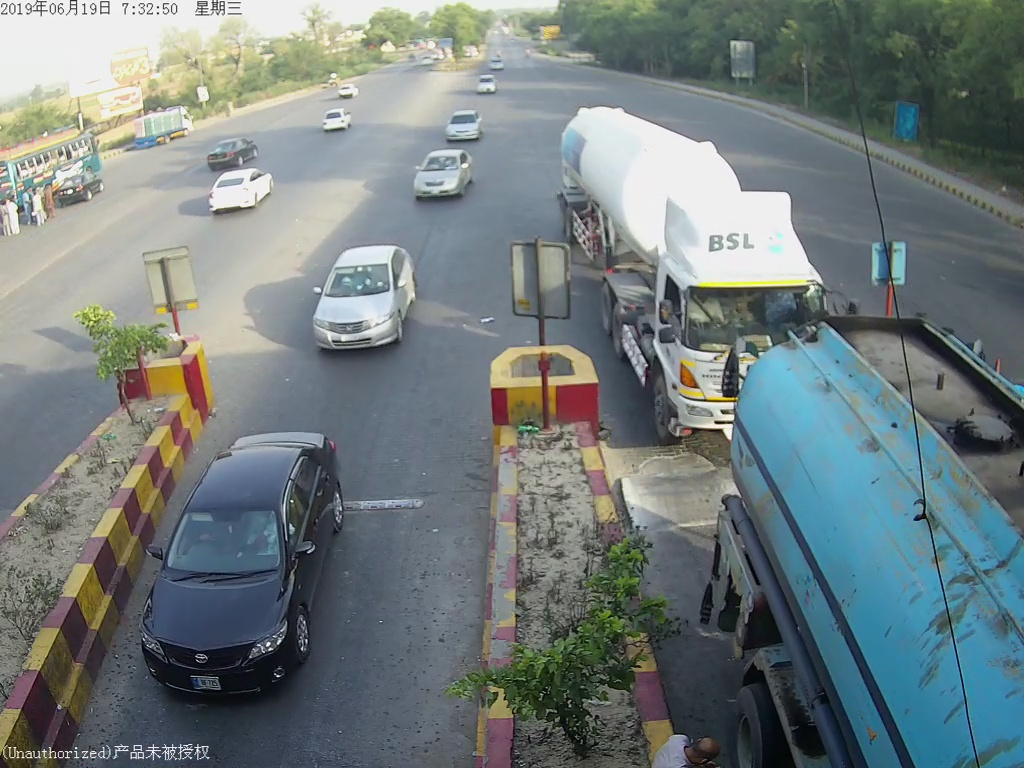Cat-1: (158, 451, 339, 696), (310, 247, 421, 356), (407, 151, 475, 203)
Cat-5: (558, 104, 840, 432)
